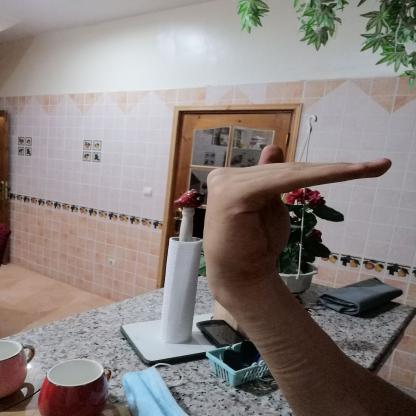KHAA: (184, 132, 404, 307)
